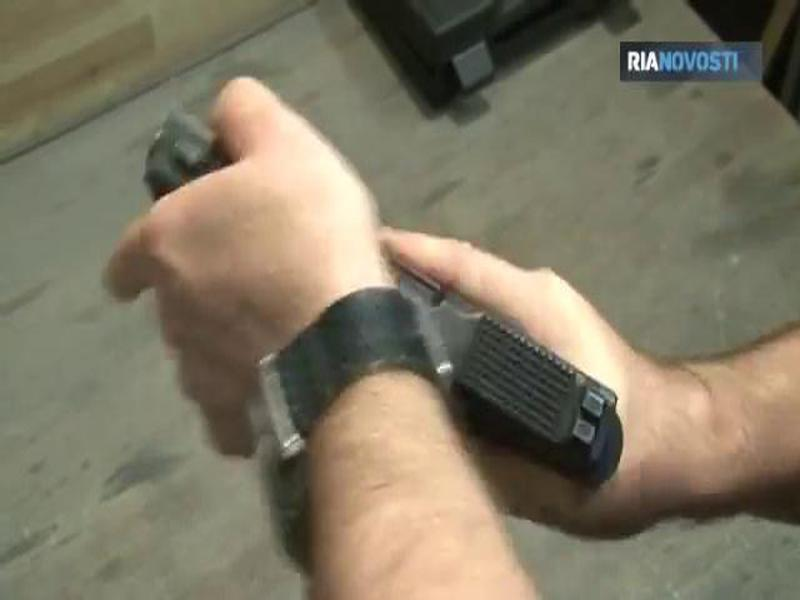Pistola: (125, 84, 657, 494)
